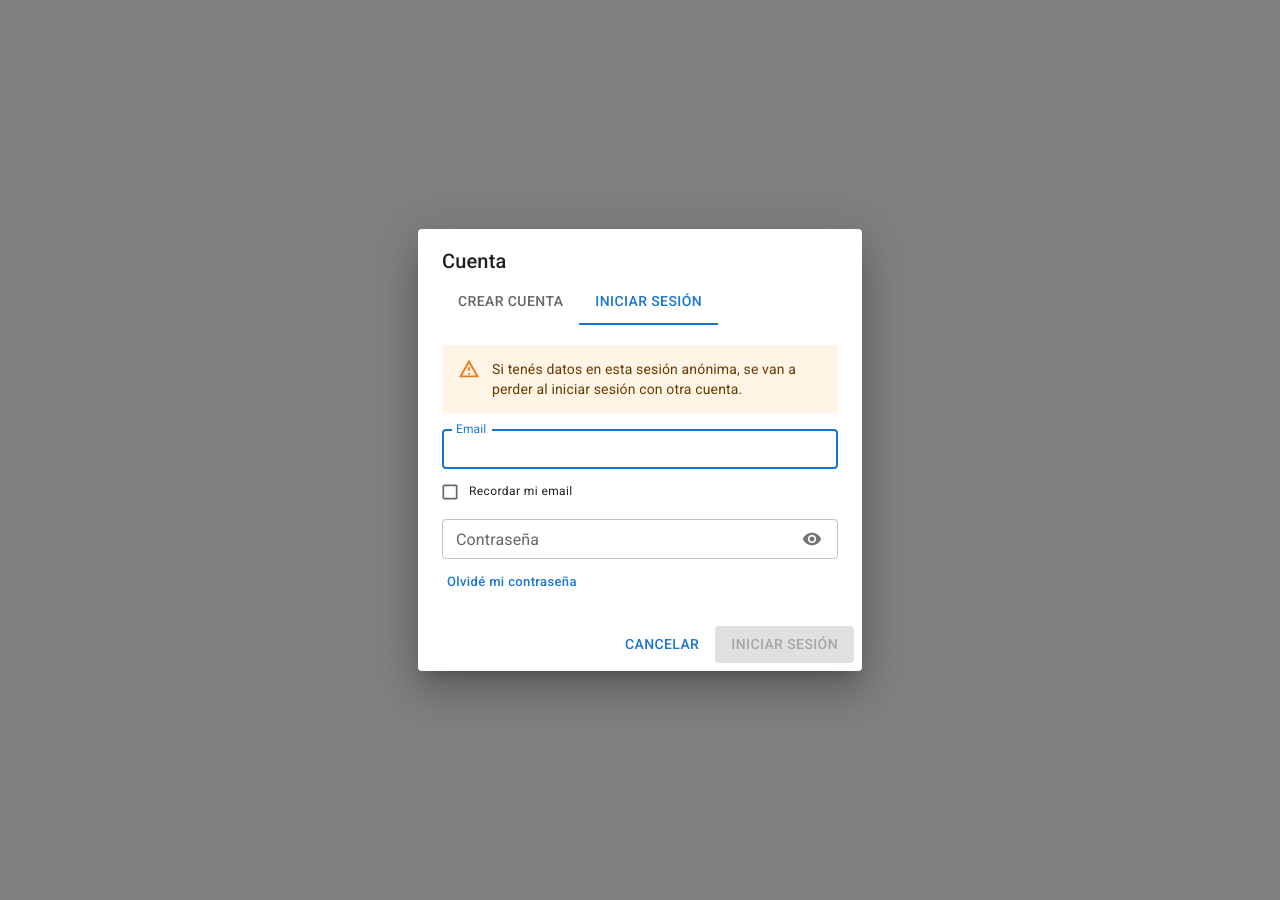
Scenario: EmailPasswordDialog › sends reset email when email is valid
Type "test@example.com" into the field labelled "Email" at (640, 449), box [442,429,838,469]
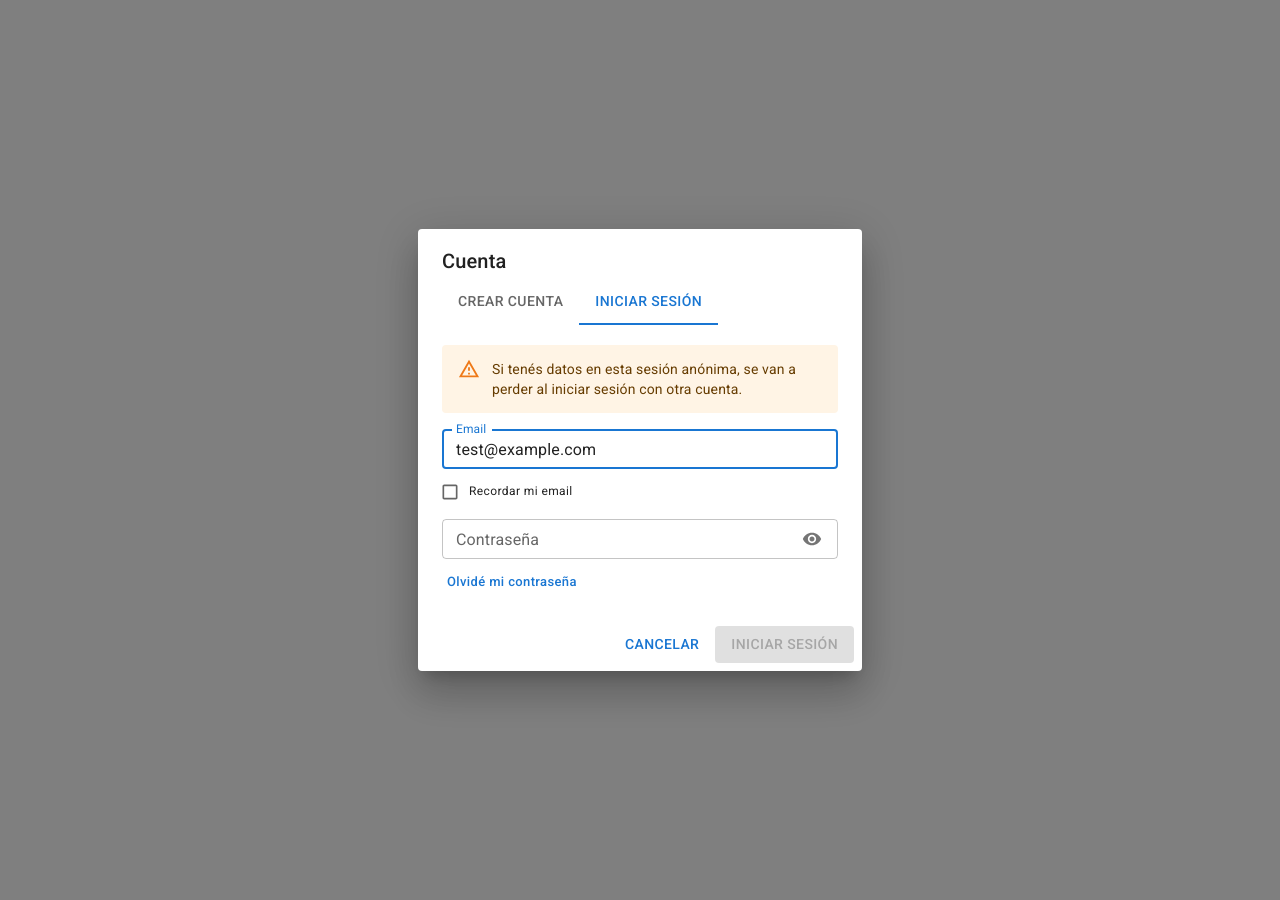
Click the button "Olvidé mi contraseña" at (512, 583), box [442,567,582,598]
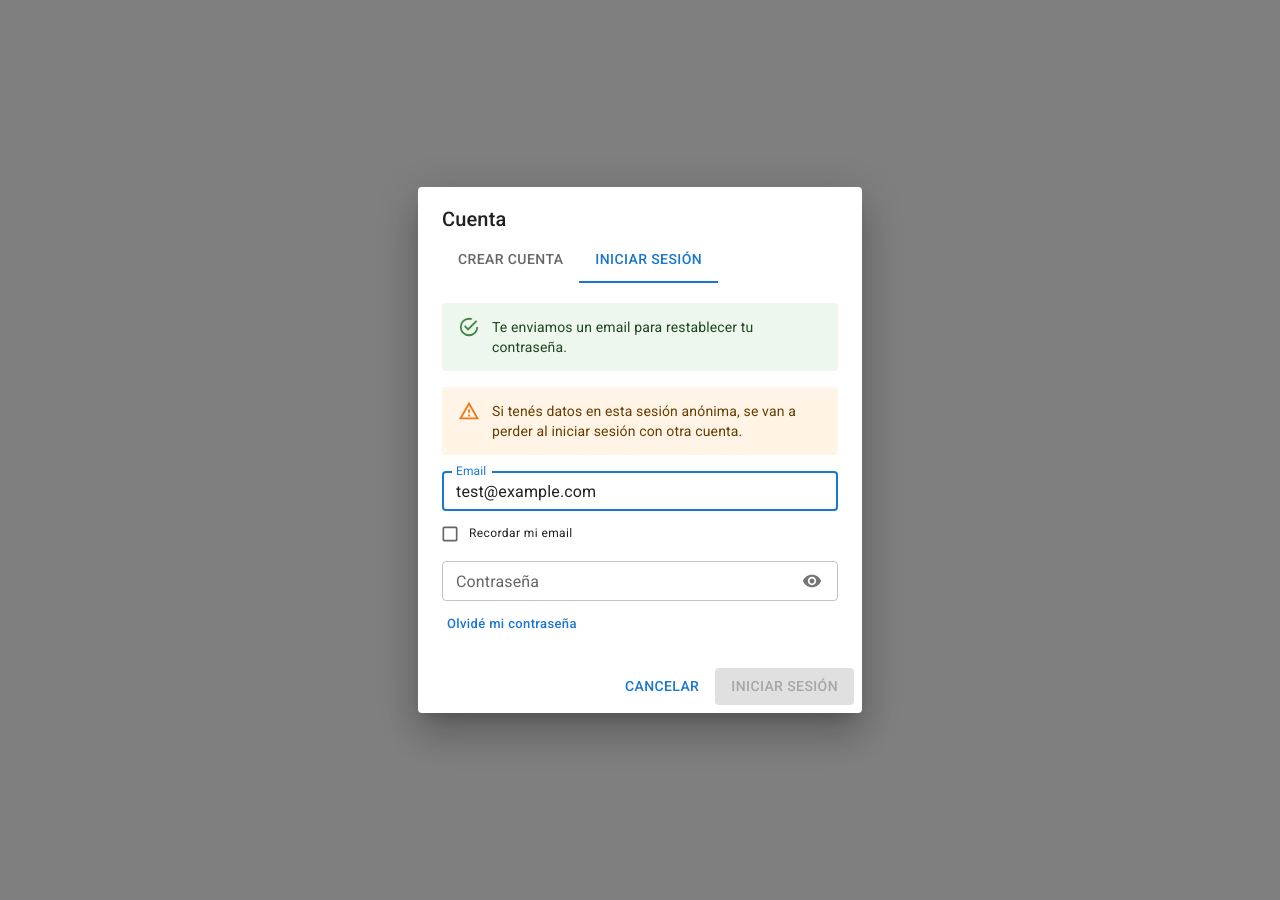
Expected: the text "Te enviamos un email para restablecer tu contraseña." is shown, [492,319,754,355]
